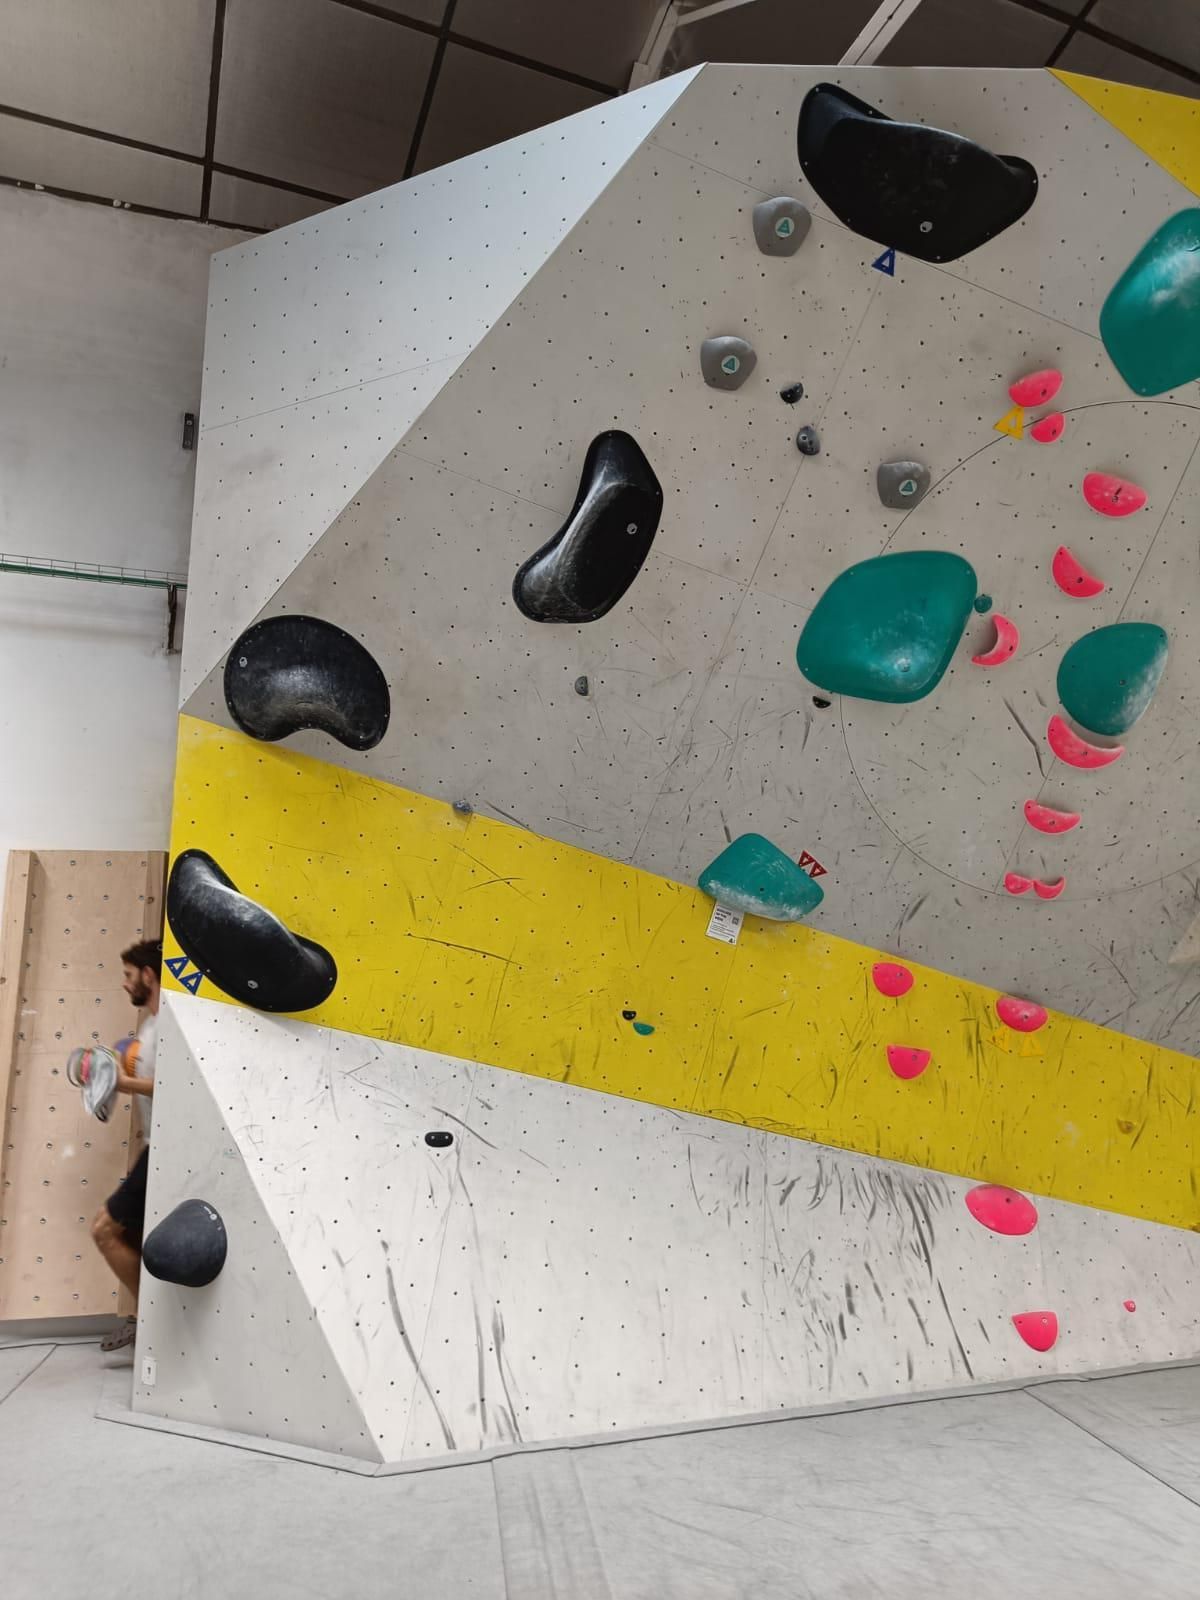hold: (797, 82, 1038, 264), (512, 430, 663, 623), (167, 848, 337, 1012), (796, 551, 977, 704), (223, 614, 391, 751), (1100, 207, 1200, 397), (1056, 623, 1169, 736), (697, 833, 824, 922), (143, 1198, 228, 1288), (1047, 714, 1126, 768), (964, 1184, 1038, 1236), (753, 196, 812, 257), (700, 335, 758, 391), (1082, 472, 1147, 517), (876, 459, 931, 510), (1052, 545, 1105, 597), (970, 614, 1019, 666), (1008, 367, 1063, 407), (1024, 799, 1081, 833), (1011, 1311, 1058, 1352), (996, 996, 1048, 1032), (886, 1045, 931, 1080), (872, 962, 914, 997), (1030, 412, 1065, 443), (1033, 876, 1066, 900), (796, 426, 821, 456), (1004, 872, 1034, 894), (779, 382, 804, 403), (424, 1131, 453, 1147), (974, 595, 992, 613), (452, 800, 474, 814), (574, 676, 589, 696), (633, 1022, 656, 1035), (812, 696, 832, 708), (1123, 1299, 1136, 1312), (622, 1010, 637, 1020)
volume: (1167, 909, 1200, 965)
